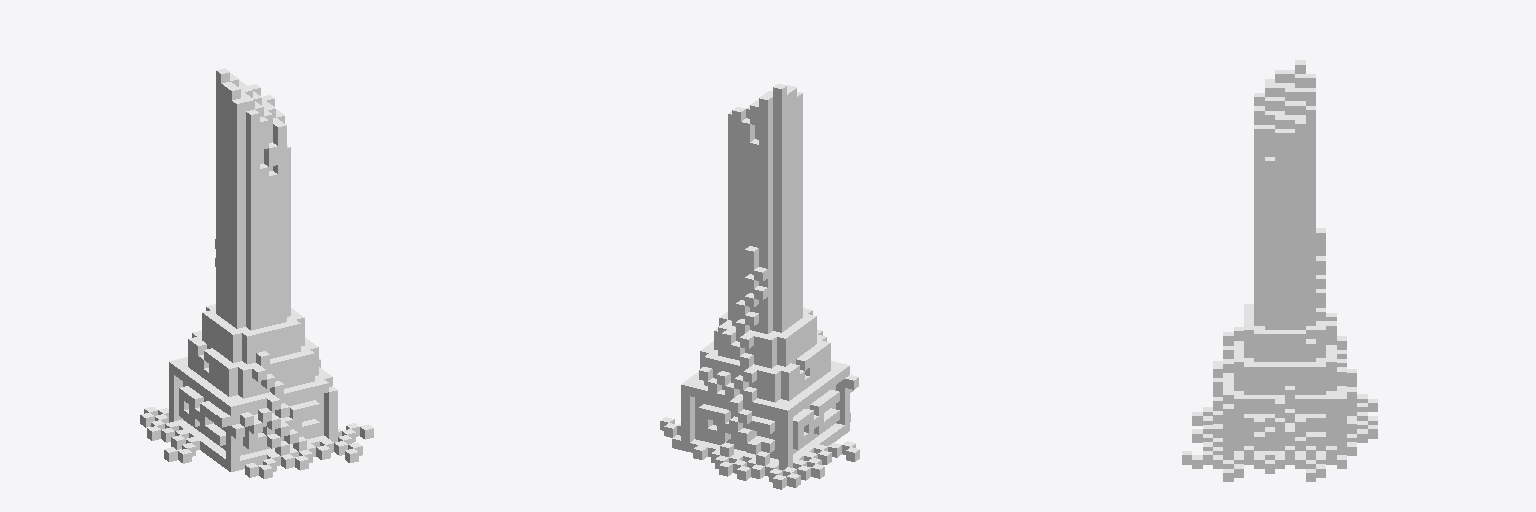
The model's file is Voxels-11.obj.
3 views of the same model, side by side, from view 1: azimuth 30°, elevation 25°; view 2: azimuth 150°, elevation 25°; view 3: azimuth 270°, elevation 25° (orthographic).
Visible parts, largest first — view 1: Voxels-11; view 2: Voxels-11; view 3: Voxels-11.
Boxes of the visible parts, x1,y1,x2,y2 form: Voxels-11: [140, 68, 373, 478]; Voxels-11: [660, 84, 859, 489]; Voxels-11: [1182, 60, 1377, 481].
Bounding box in the file's own units: 20 × 39 × 19.